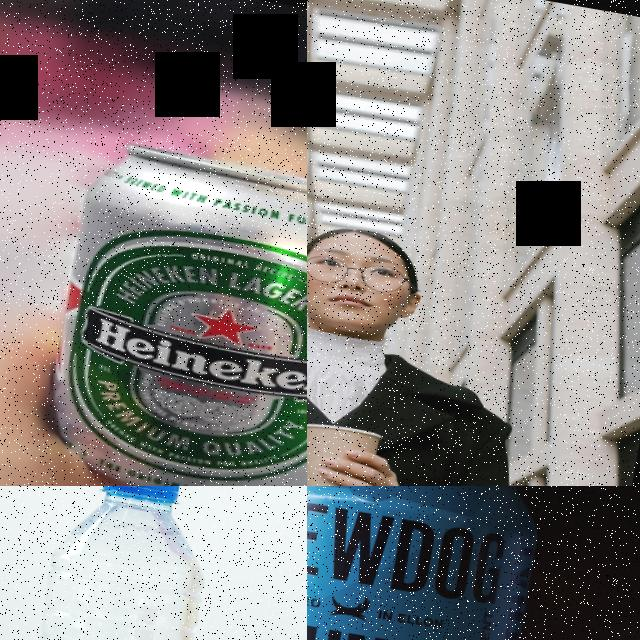bottle: (1, 486, 227, 640)
can: (28, 132, 307, 486), (307, 486, 560, 640)
cup: (307, 418, 393, 486)
